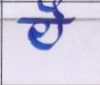ai_matra: (38, 0, 68, 18)
